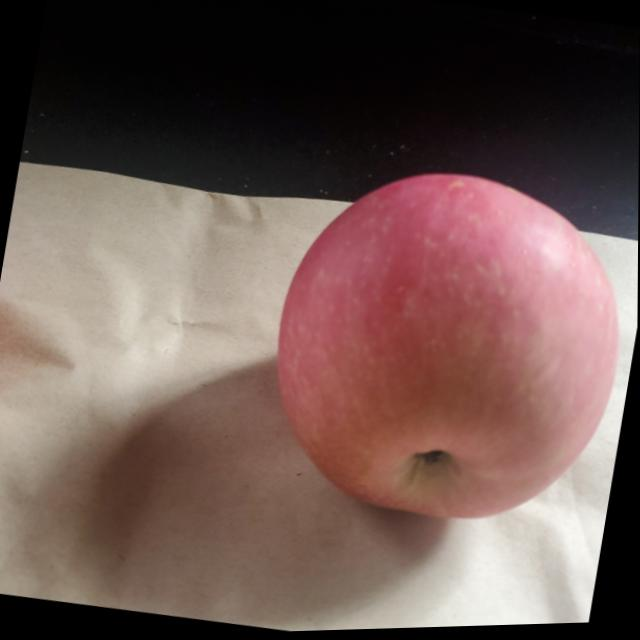apple: (250, 144, 639, 547)
